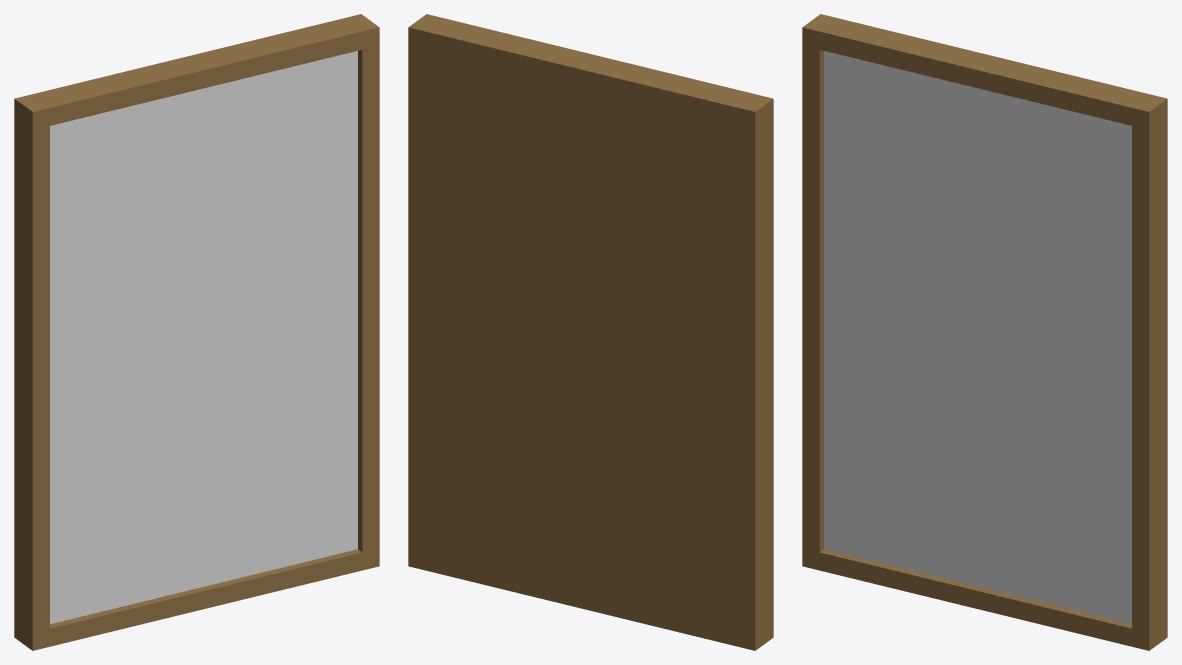
File: mirror.fbx
3 views of the same model, side by side, from view 1: azimuth 30°, elevation 25°; view 2: azimuth 150°, elevation 25°; view 3: azimuth 330°, elevation 25° (orthographic).
Parts seen in each view (by area): view 1: pCube1; view 2: pCube1; view 3: pCube1.
Boxes of the visible parts, box(x1,y1,x2,y2) form: pCube1: box(14, 14, 379, 650); pCube1: box(408, 14, 773, 650); pCube1: box(802, 14, 1167, 650).
Bounding box in the file's own units: 0.4233 × 0.6284 × 0.0386.
